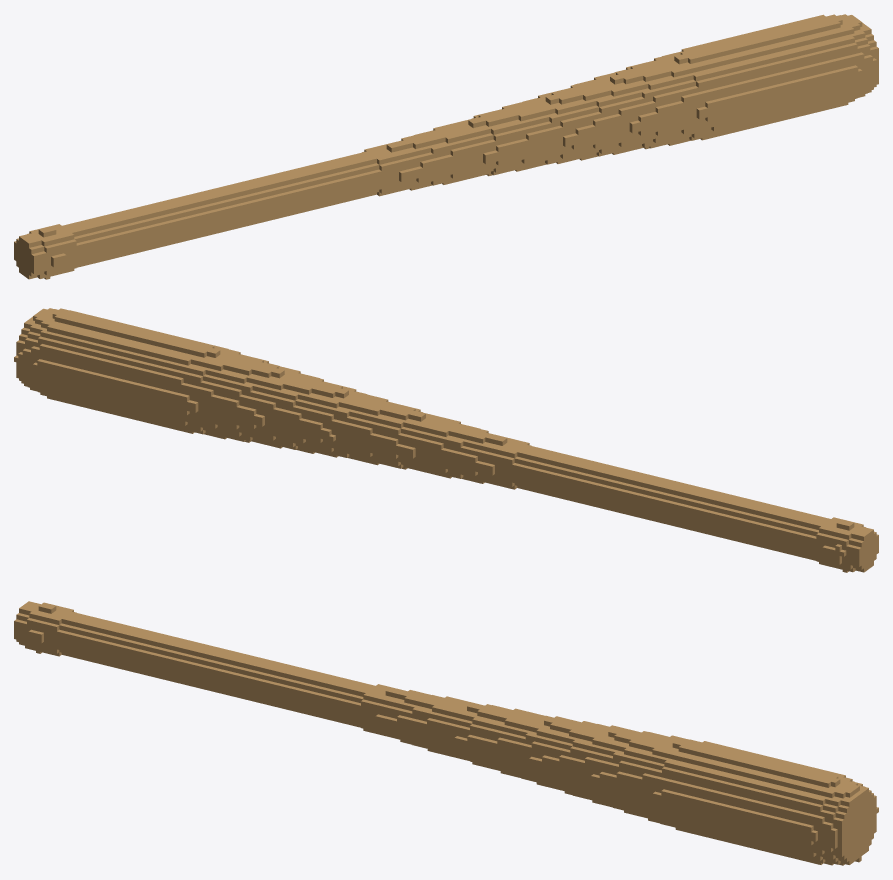
Rendered from baseball_bat.glb.
3 views of the same model, one above another, from view 1: azimuth 30°, elevation 25°; view 2: azimuth 150°, elevation 25°; view 3: azimuth 330°, elevation 25° (orthographic).
Visible parts, largest first — view 1: baseball_bat:bat; view 2: baseball_bat:bat; view 3: baseball_bat:bat.
Boxes of the visible parts, x1=… form: baseball_bat:bat: x1=14, y1=14, x2=878, y2=279; baseball_bat:bat: x1=14, y1=308, x2=878, y2=572; baseball_bat:bat: x1=14, y1=601, x2=878, y2=865.
Bounding box in the file's own units: 0.78 × 0.072 × 0.072.
